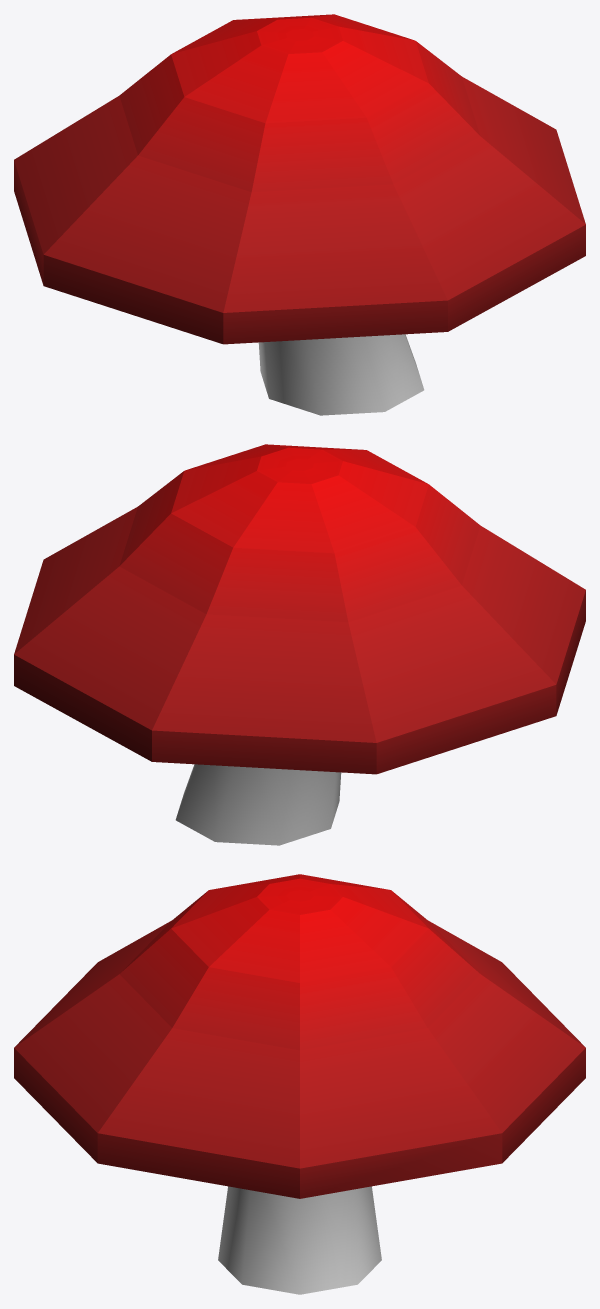
File: MushroomMediumRed.FBX
The picture shows the model from 3 angles, top to bottom: view 1: azimuth 30°, elevation 25°; view 2: azimuth 150°, elevation 25°; view 3: azimuth 270°, elevation 25°; orthographic projection. The views are drawn at different scales.
Visible parts, largest first — view 1: Cylinder006; view 2: Cylinder006; view 3: Cylinder006.
Boxes of the visible parts, x1,y1,x2,y2 form: Cylinder006: (14, 14, 585, 415); Cylinder006: (14, 444, 585, 845); Cylinder006: (14, 874, 585, 1294).
Size of the model in its own units: 24.66 by 16.38 by 24.66.
